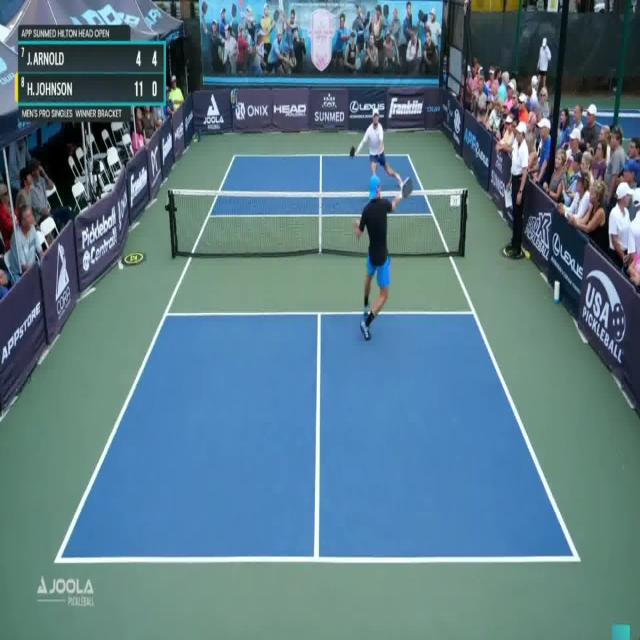Court: (57, 153, 578, 563)
